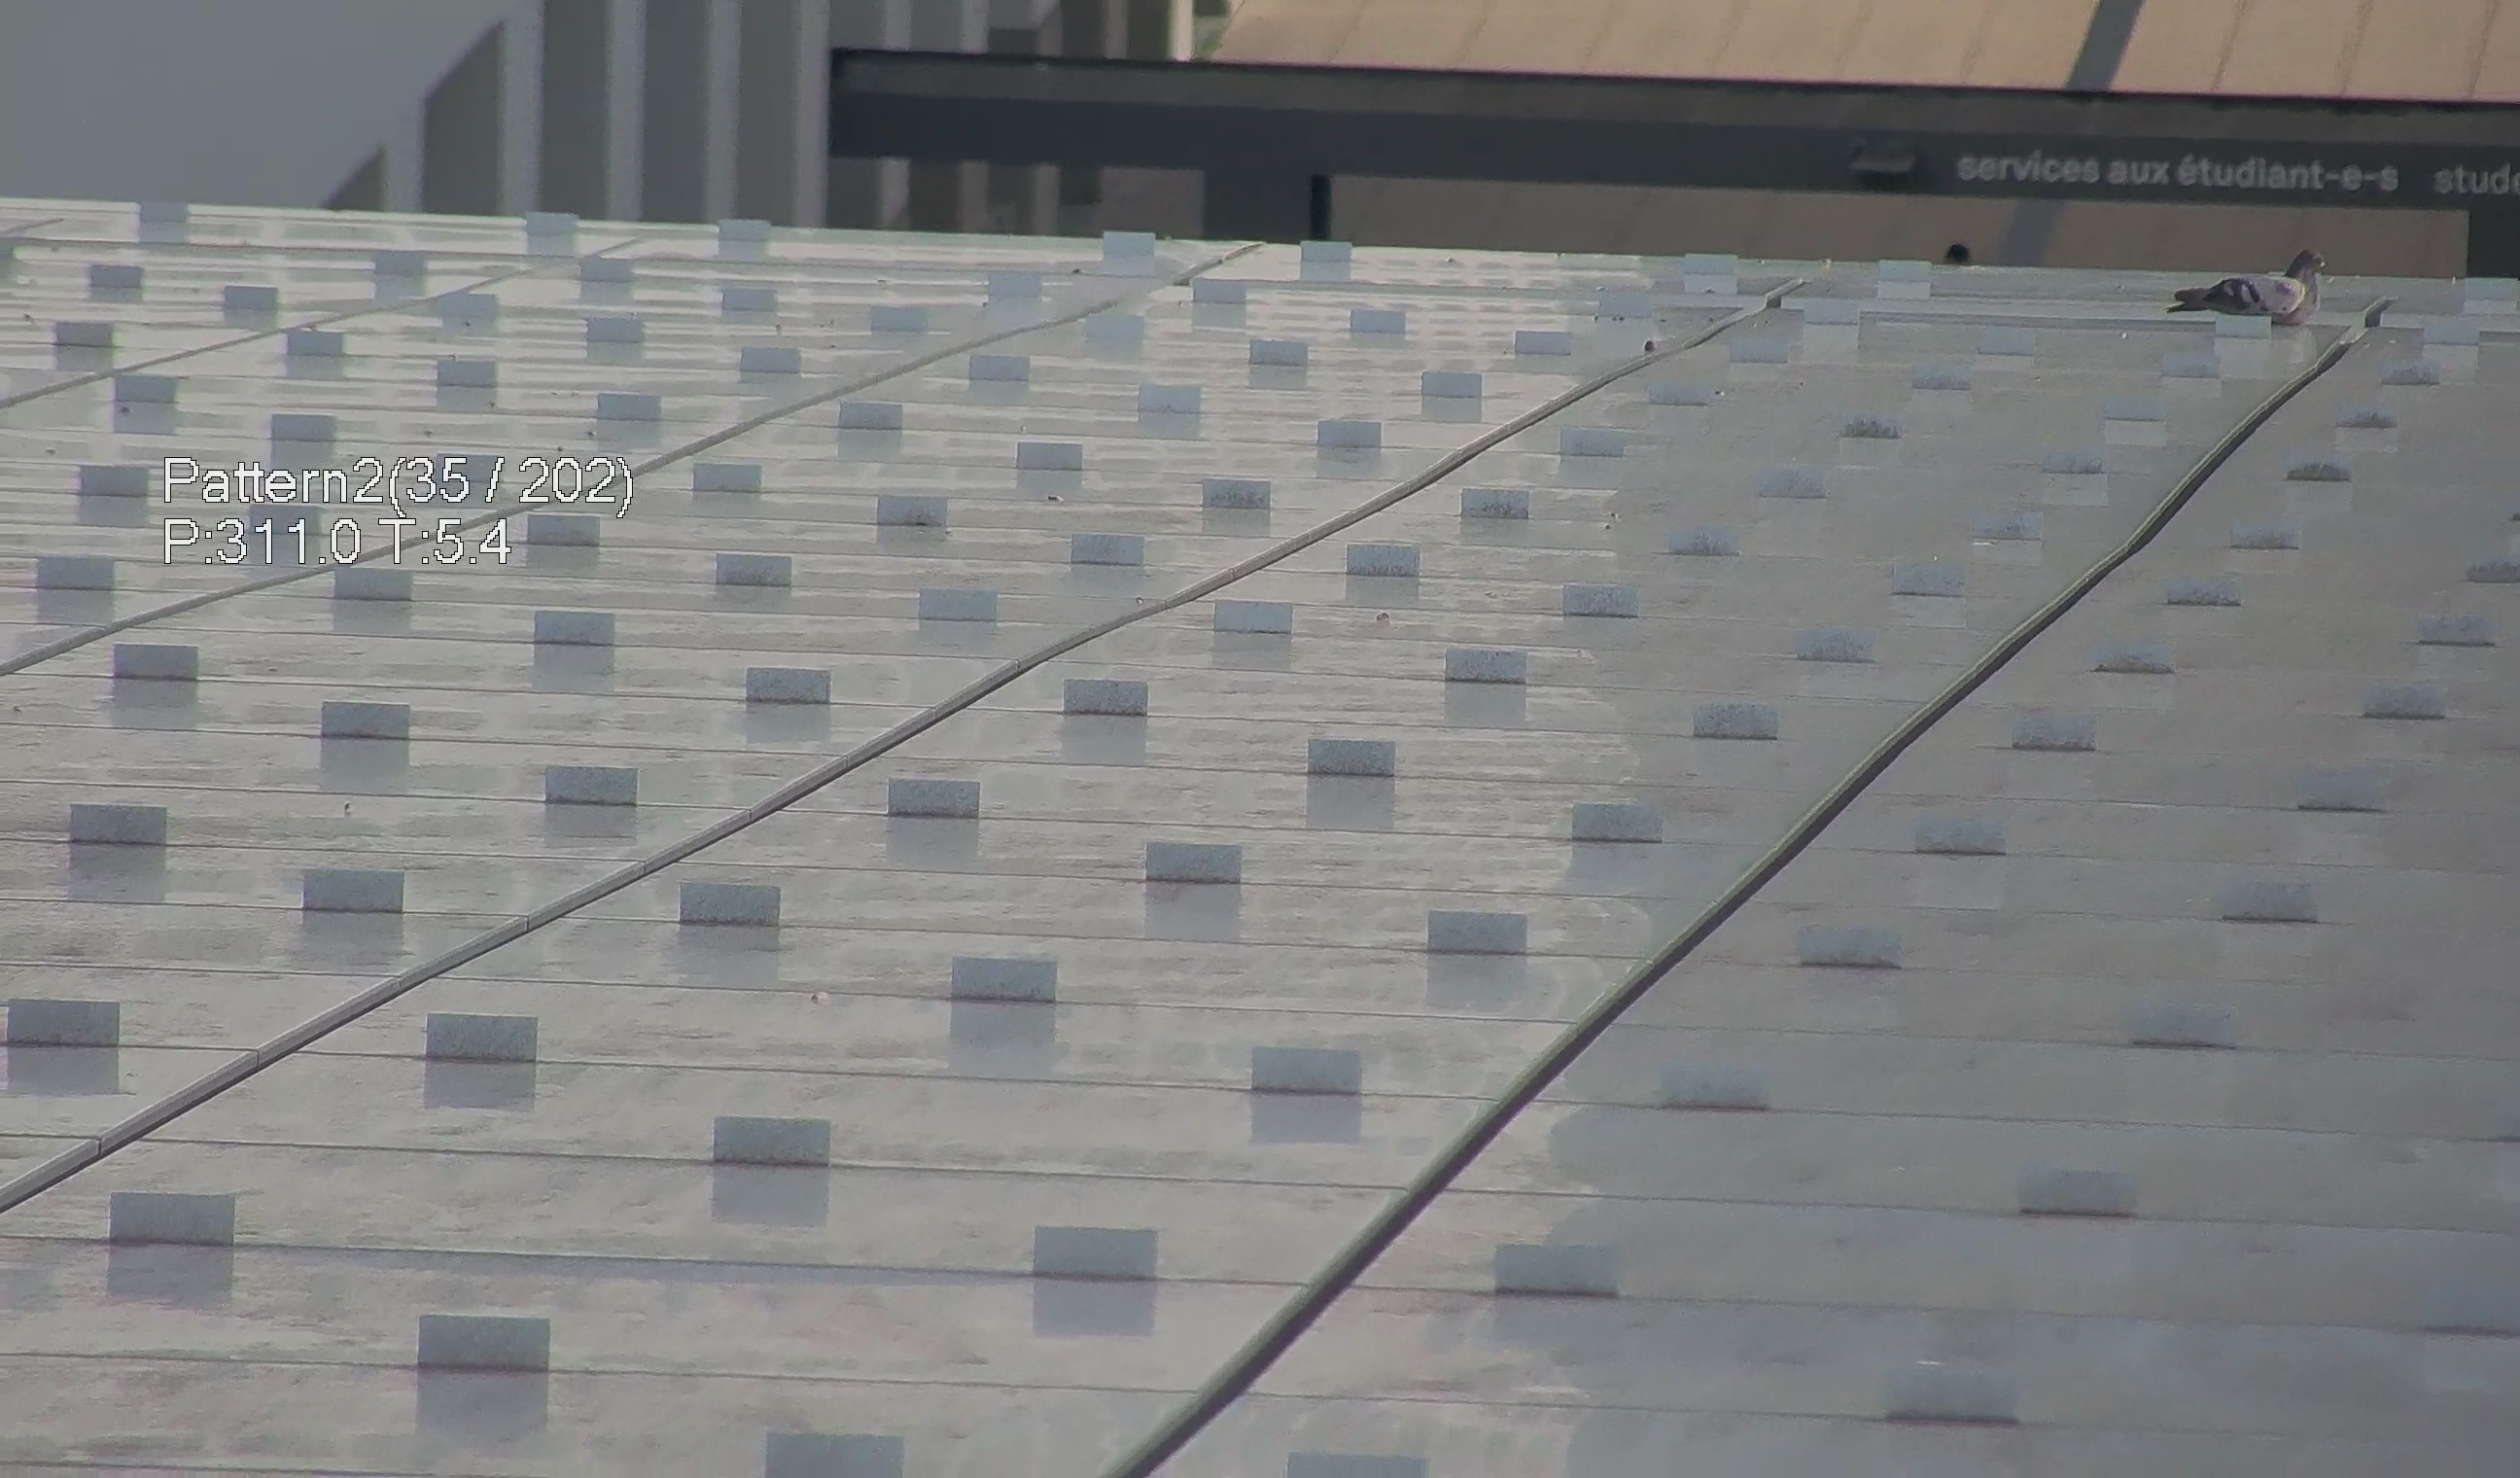Pigeon: (2170, 241, 2332, 315)
